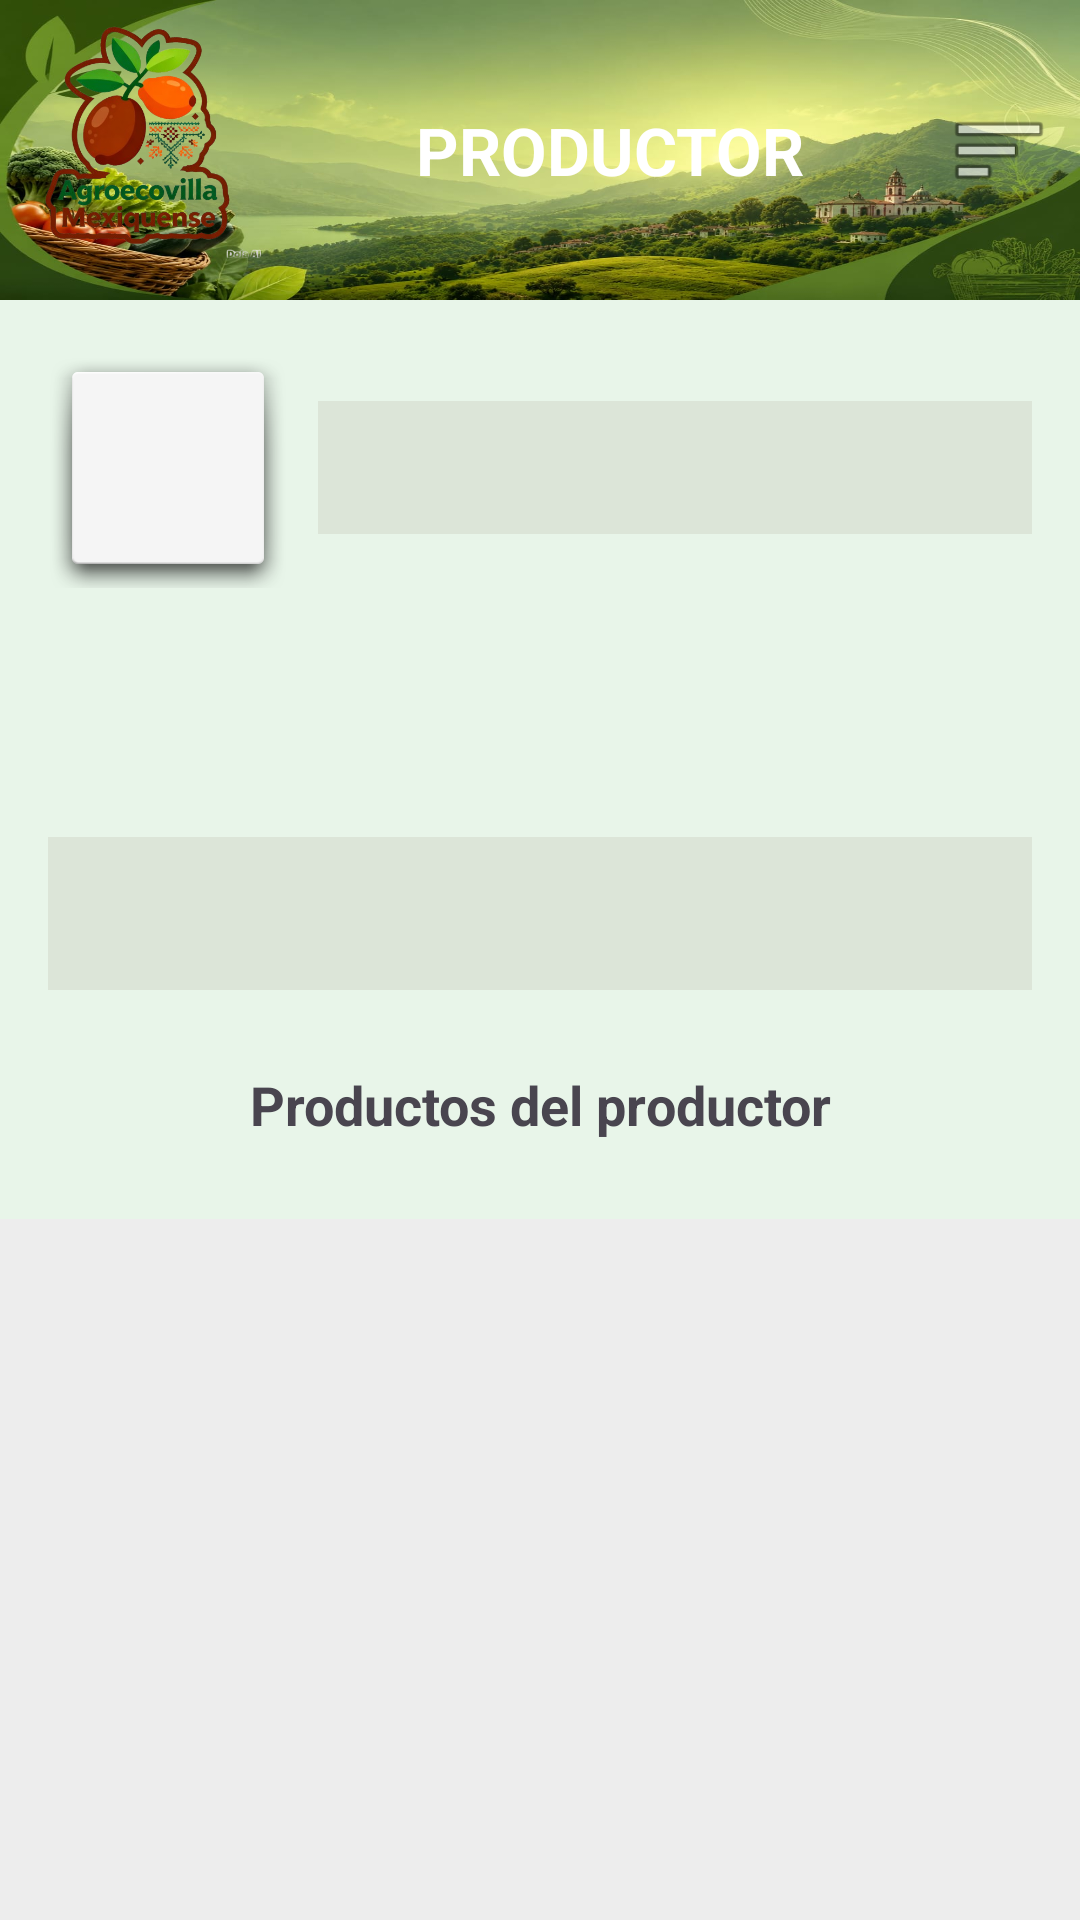

Named icons in this screenshot (1080w x 1920h) and their centers, (x,y):
sort by size: (999,150)
